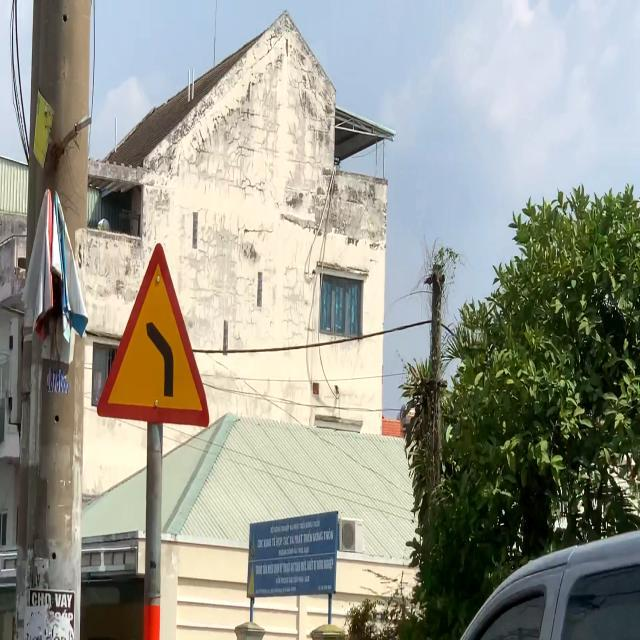W-201a: (98, 244, 210, 426)
